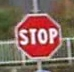stop: (14, 10, 61, 60)
